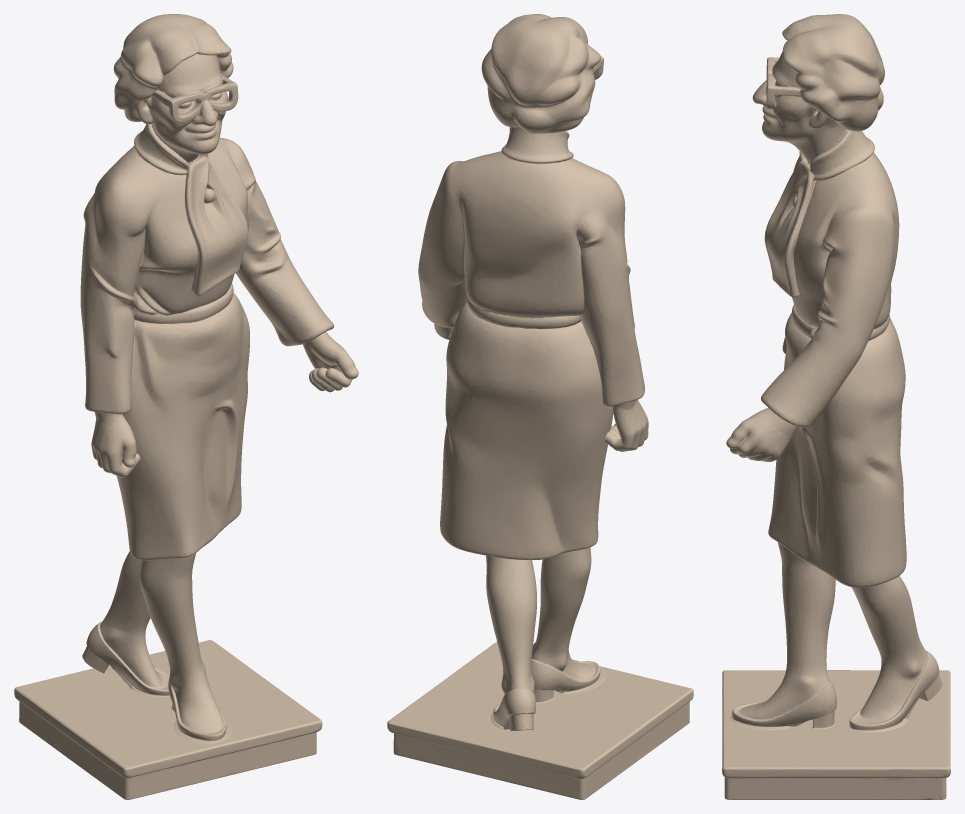
Rendered from helena-antipoff.glb.
3 renders of one model, left to right at view 1: azimuth 30°, elevation 25°; view 2: azimuth 150°, elevation 25°; view 3: azimuth 270°, elevation 25°, orthographic. The views are drawn at different scales.
Visible parts, largest first — view 1: helena-antipoff; view 2: helena-antipoff; view 3: helena-antipoff.
Boxes of the visible parts, x1,y1,x2,y2 form: helena-antipoff: (14,14,358,799); helena-antipoff: (387,14,693,799); helena-antipoff: (722,14,950,799).
Size of the model in its own units: 0.3882 by 1.1 by 0.3115.
